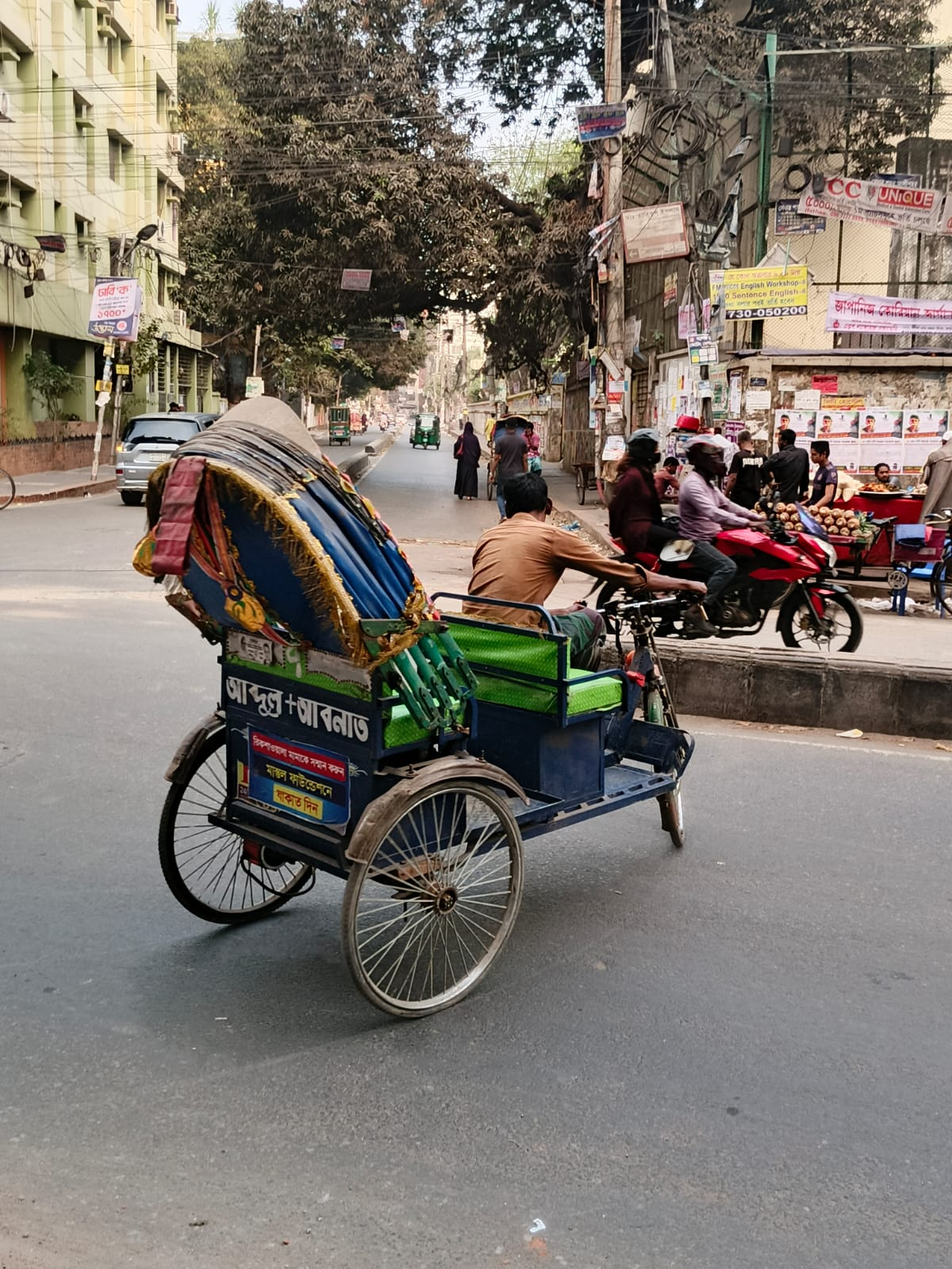Bikes: (596, 421, 879, 657)
auto-ricksaw: (135, 406, 706, 1033)
